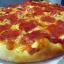pepperoni: (1, 26, 23, 43), (21, 30, 49, 42), (13, 19, 40, 31), (47, 20, 64, 37), (40, 13, 55, 26)
pizza: (1, 1, 64, 63)
